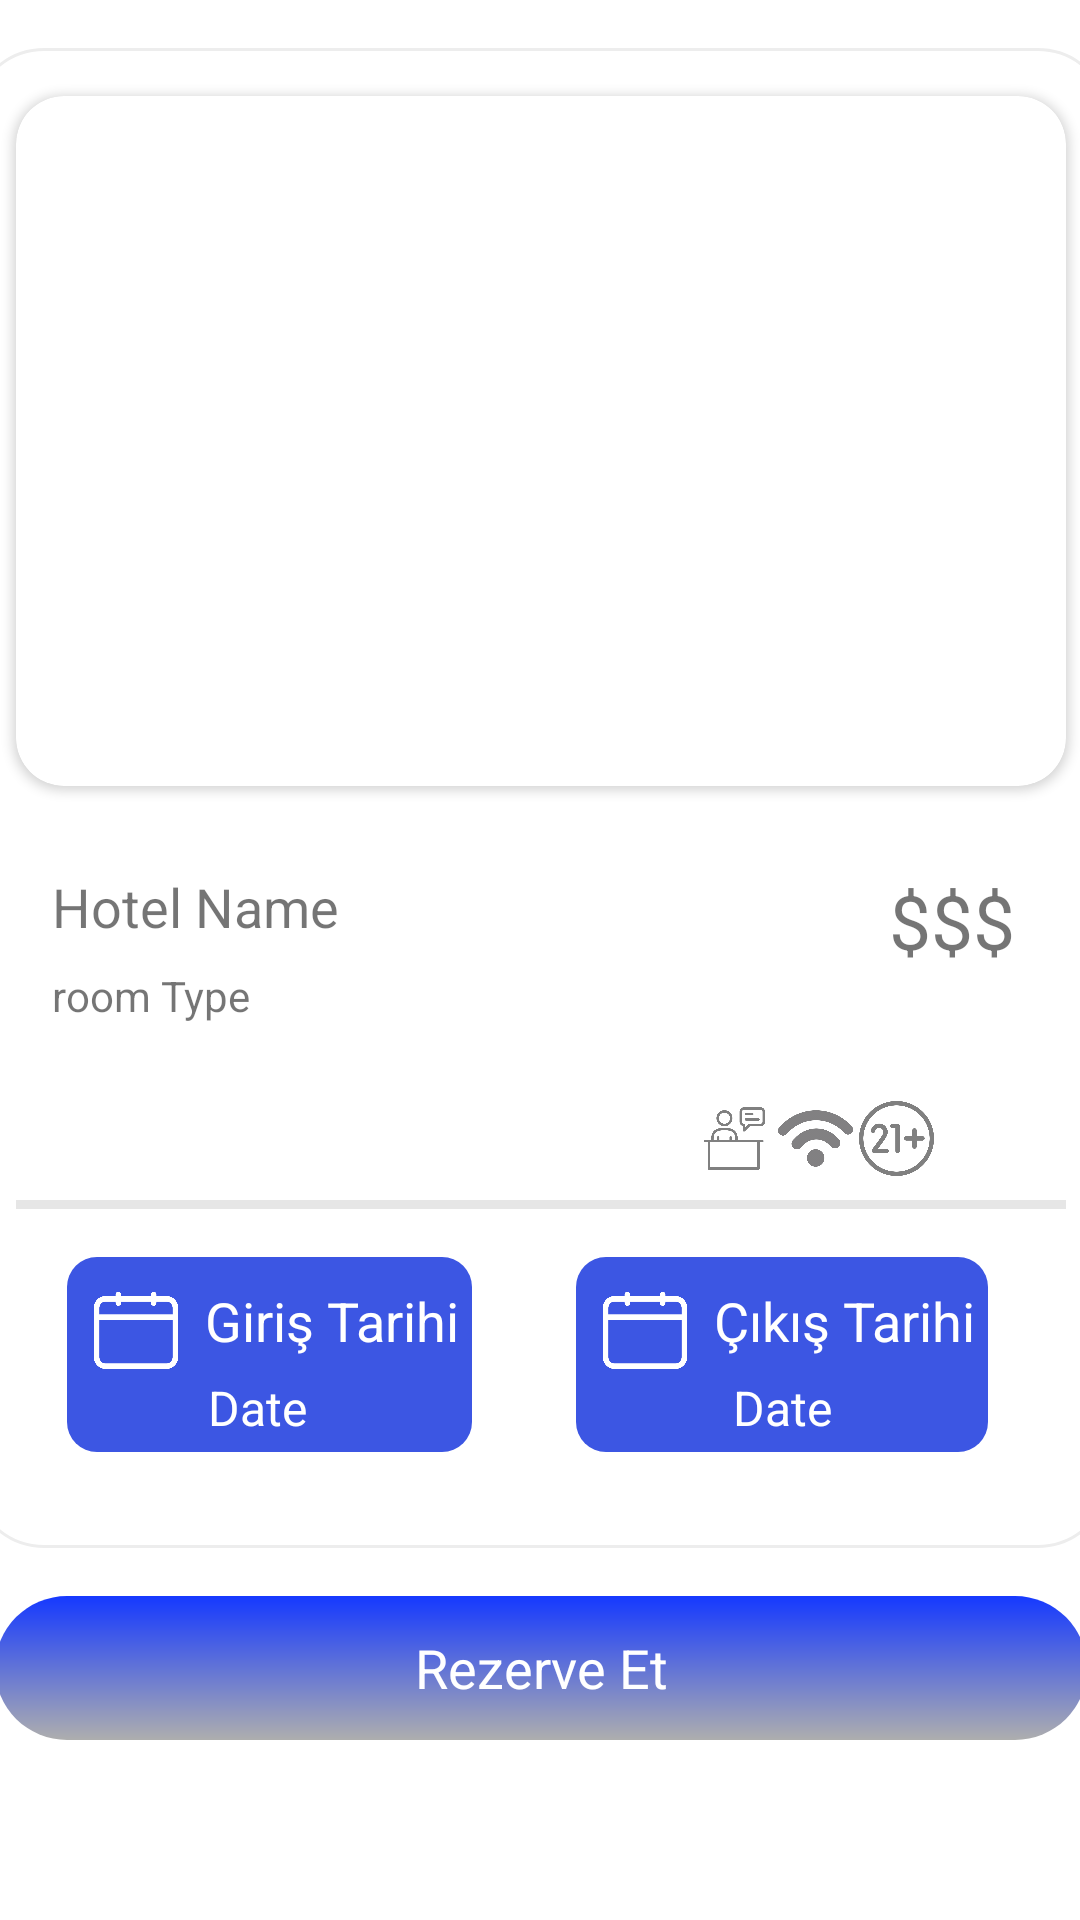

Icons on this 1080×1920 Android screen, each with the point to tap as point (x, y):
calendar: point (136, 1330), point (645, 1330)
reception: point (734, 1138)
twenty one: point (896, 1138)
wifi: point (815, 1138)
